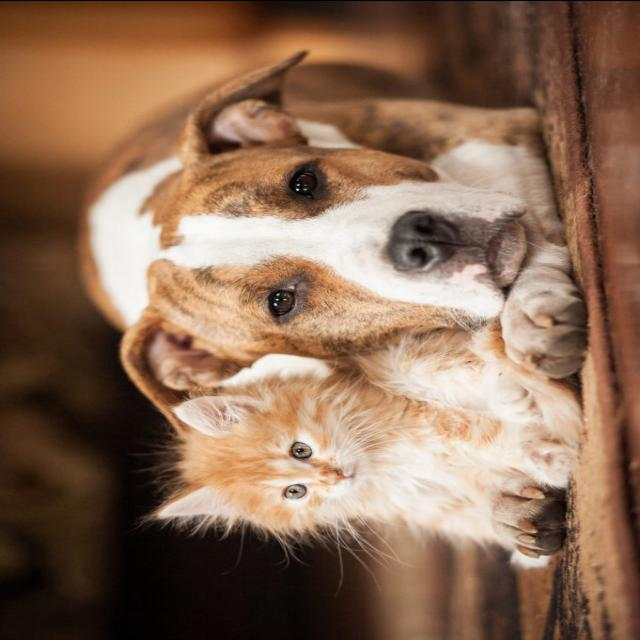cat: (136, 338, 578, 566)
dog: (69, 48, 577, 400)
